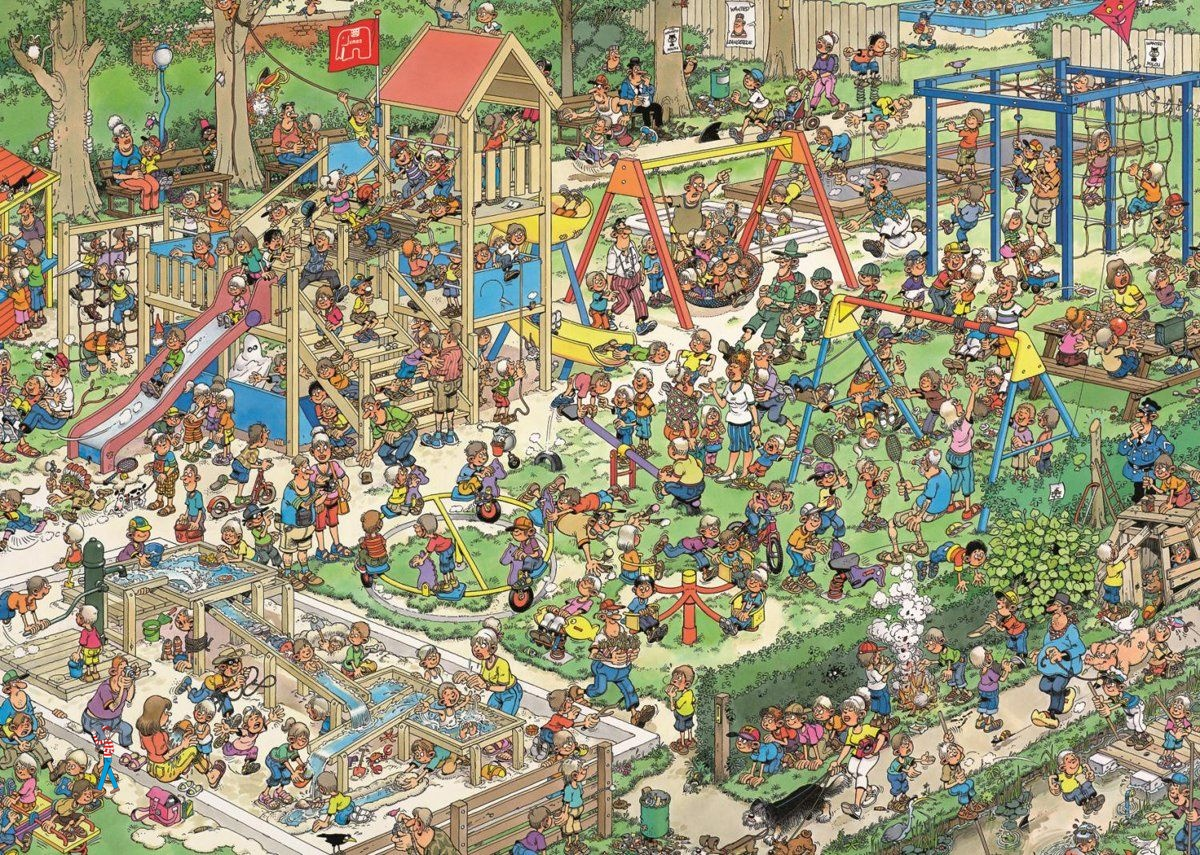waldo: (90, 725, 120, 794)
